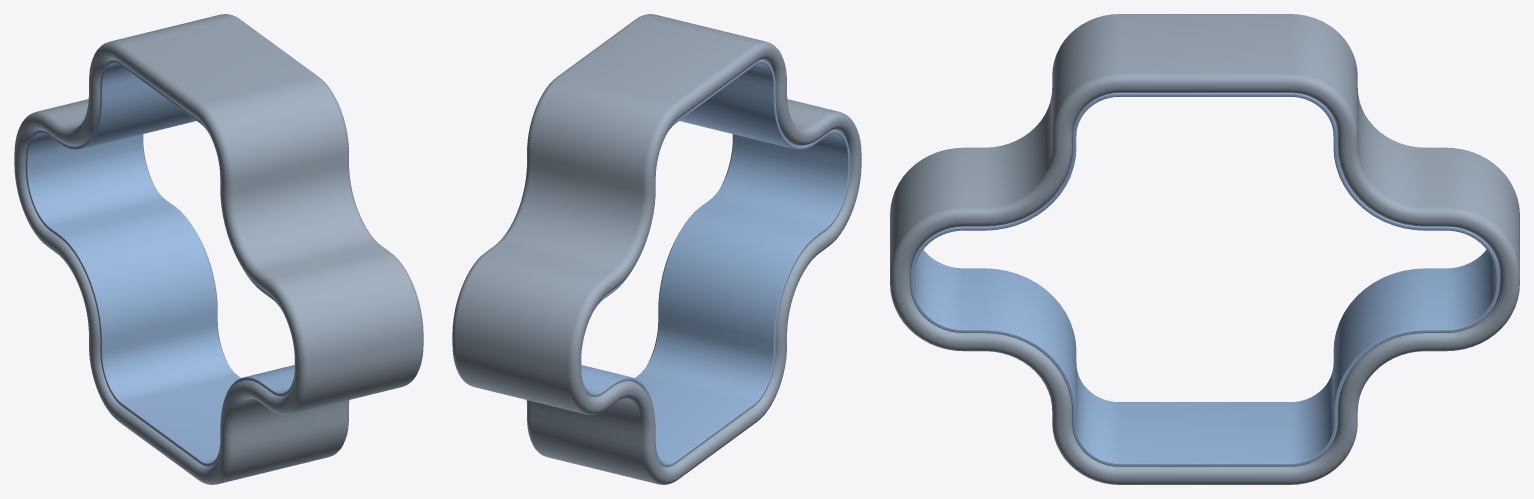
Rendered from form.fbx.
3 renders of one model, left to right at view 1: azimuth 30°, elevation 25°; view 2: azimuth 150°, elevation 25°; view 3: azimuth 270°, elevation 25°, orthographic. The views are drawn at different scales.
Visible parts, largest first — view 1: Cube, Cube.002; view 2: Cube, Cube.002; view 3: Cube, Cube.002.
Boxes of the visible parts, box(x1,y1,x2,y2) form: Cube: box(14, 14, 423, 484); Cube.002: box(25, 59, 294, 466); Cube: box(452, 14, 861, 484); Cube.002: box(581, 59, 850, 466); Cube: box(890, 14, 1519, 484); Cube.002: box(910, 93, 1499, 466).
Bounding box in the file's own units: 200 × 575 × 800.
